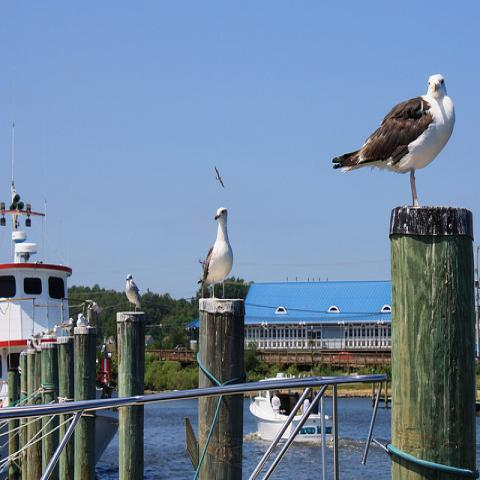car: (176, 346, 186, 350)
